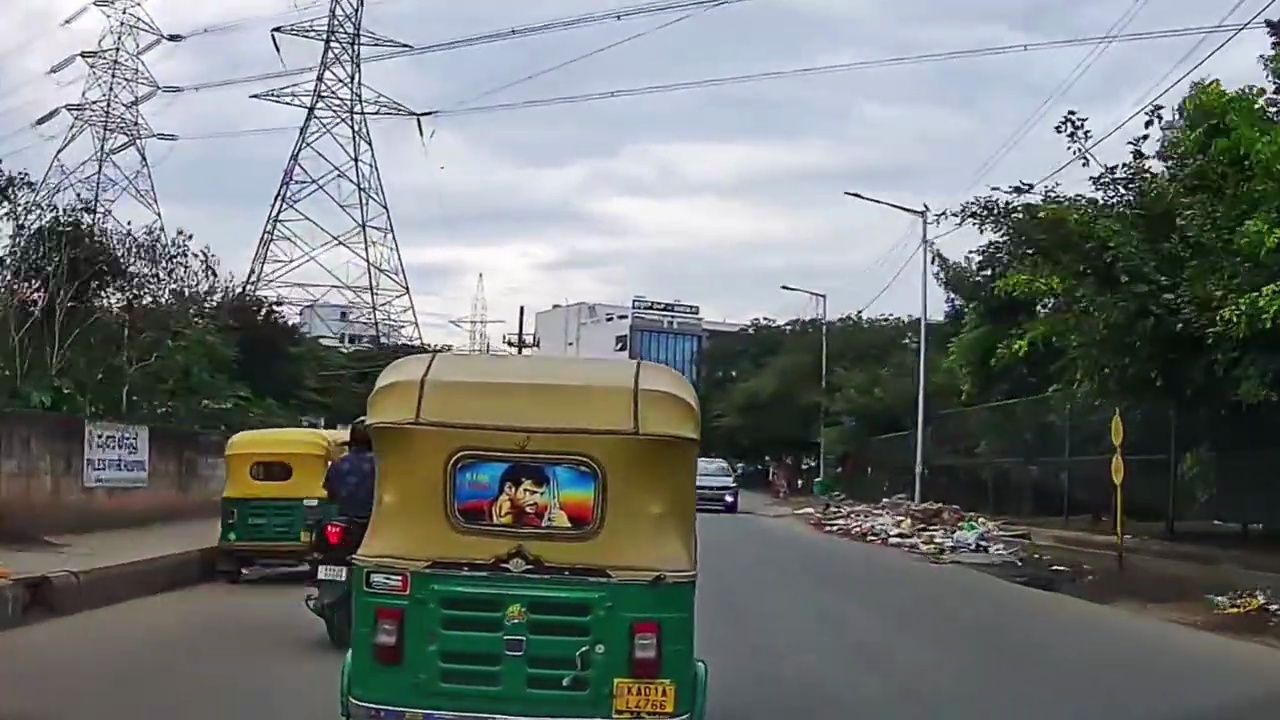garbage: (826, 495, 962, 550)
